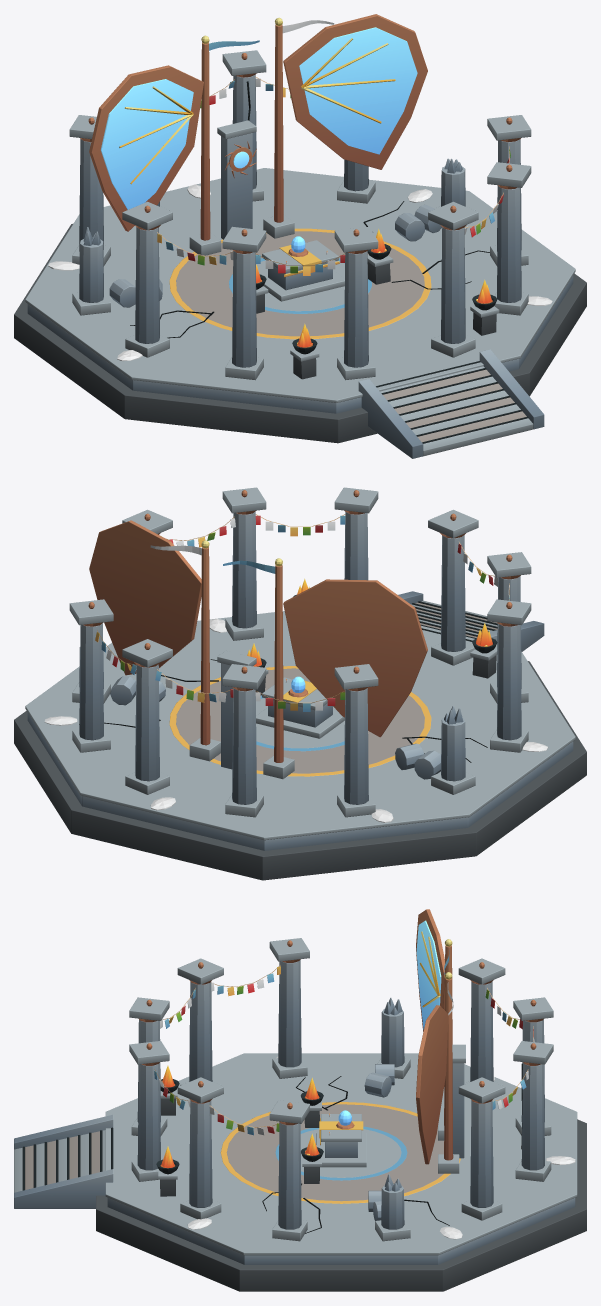
The model's file is vayuketh_temple.glb.
3 renders of one model, top to bottom at view 1: azimuth 30°, elevation 25°; view 2: azimuth 150°, elevation 25°; view 3: azimuth 270°, elevation 25°, orthographic. The views are drawn at different scales.
Visible parts, largest first — view 1: vayuketh_temple; view 2: vayuketh_temple; view 3: vayuketh_temple.
Part boxes in pixels (x1,y1,x2,y2): vayuketh_temple: [14, 14, 586, 458]; vayuketh_temple: [14, 487, 586, 880]; vayuketh_temple: [14, 909, 586, 1291].
Bounding box in the file's own units: 25.2 × 13.15 × 29.4.
Materials: 9 (9 with a texture image).
